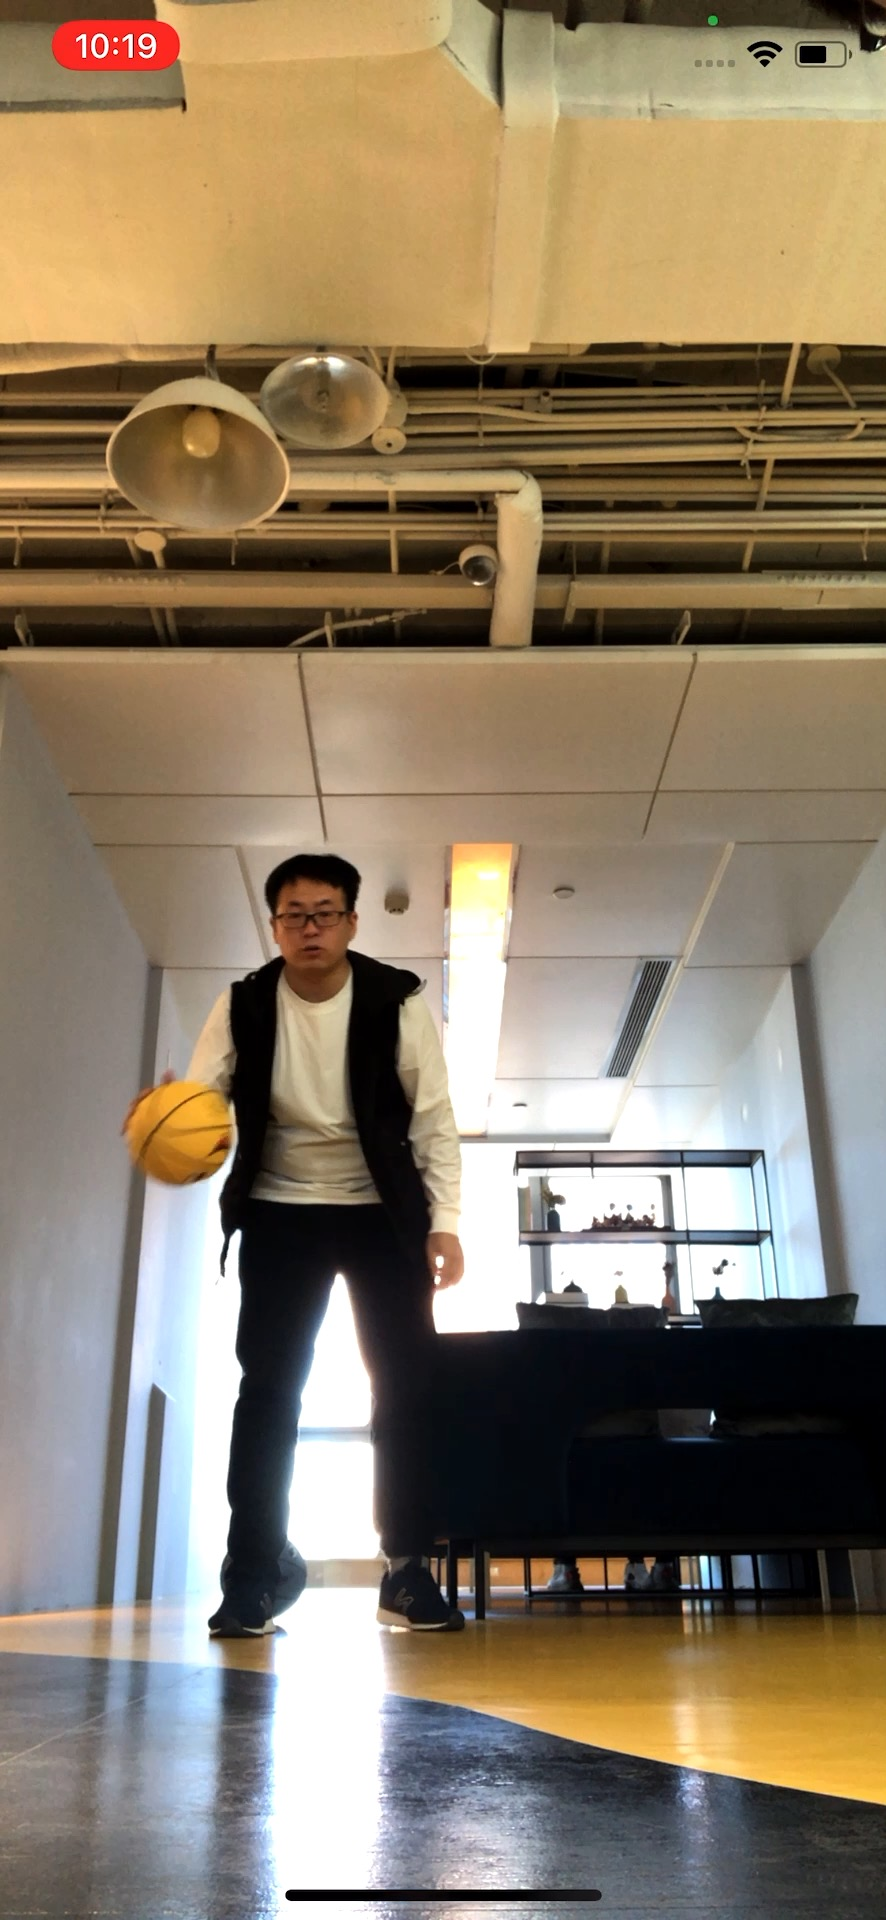ball: (125, 1080, 235, 1187)
